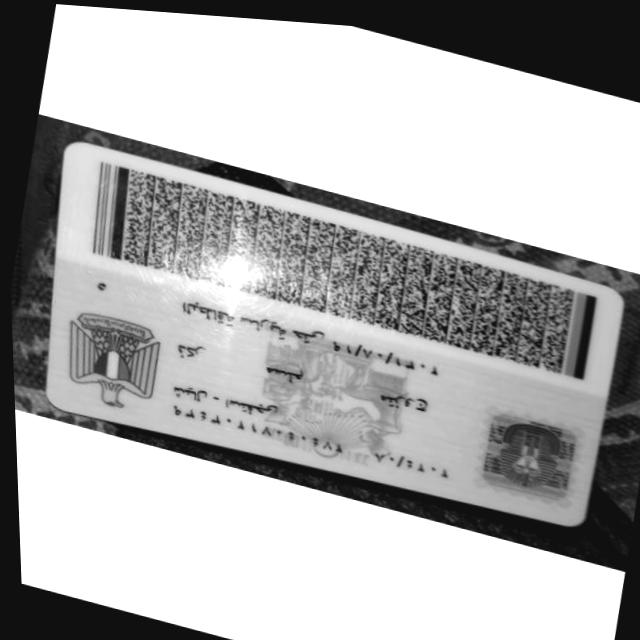back: (46, 146, 624, 528)
